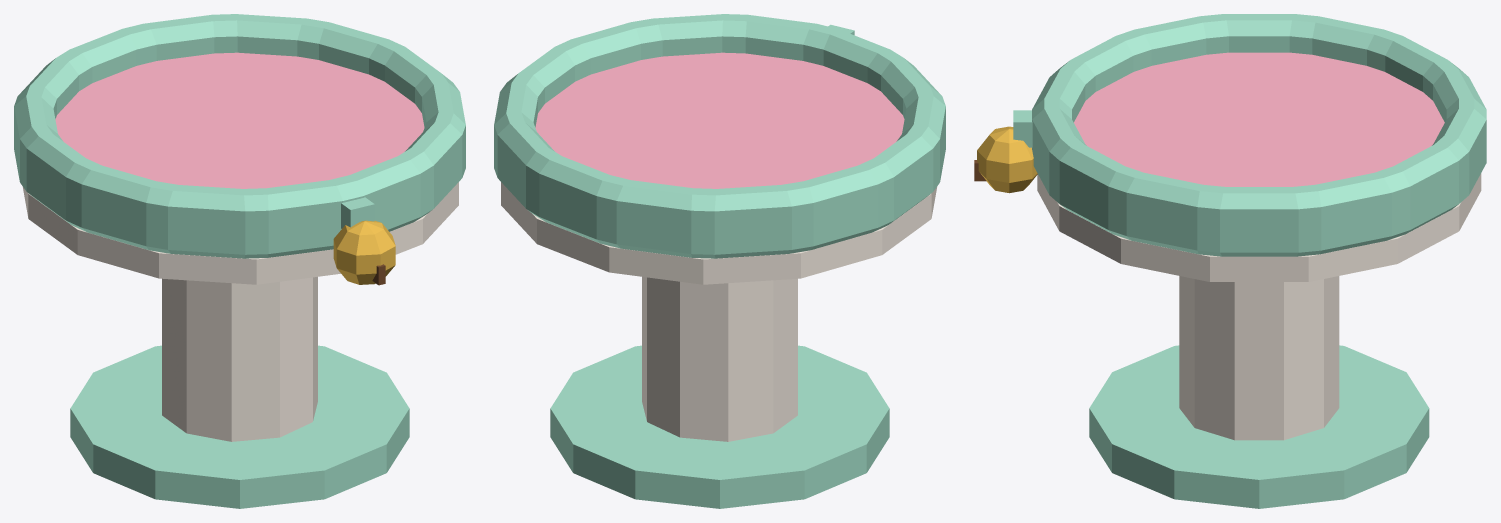
The model's file is CleanACat_Prop_SudsBed.fbx.
3 views of the same model, side by side, from view 1: azimuth 30°, elevation 25°; view 2: azimuth 150°, elevation 25°; view 3: azimuth 270°, elevation 25° (orthographic).
Parts seen in each view (by area): view 1: CleanACat_Prop_SudsBed; view 2: CleanACat_Prop_SudsBed; view 3: CleanACat_Prop_SudsBed.
Boxes of the visible parts, bbox=[...] form: CleanACat_Prop_SudsBed: bbox=[14, 14, 465, 508]; CleanACat_Prop_SudsBed: bbox=[494, 14, 945, 508]; CleanACat_Prop_SudsBed: bbox=[974, 14, 1486, 508].
Size of the model in its own units: 2.24 by 1.84 by 2.56.
1 material, 1 textured.
